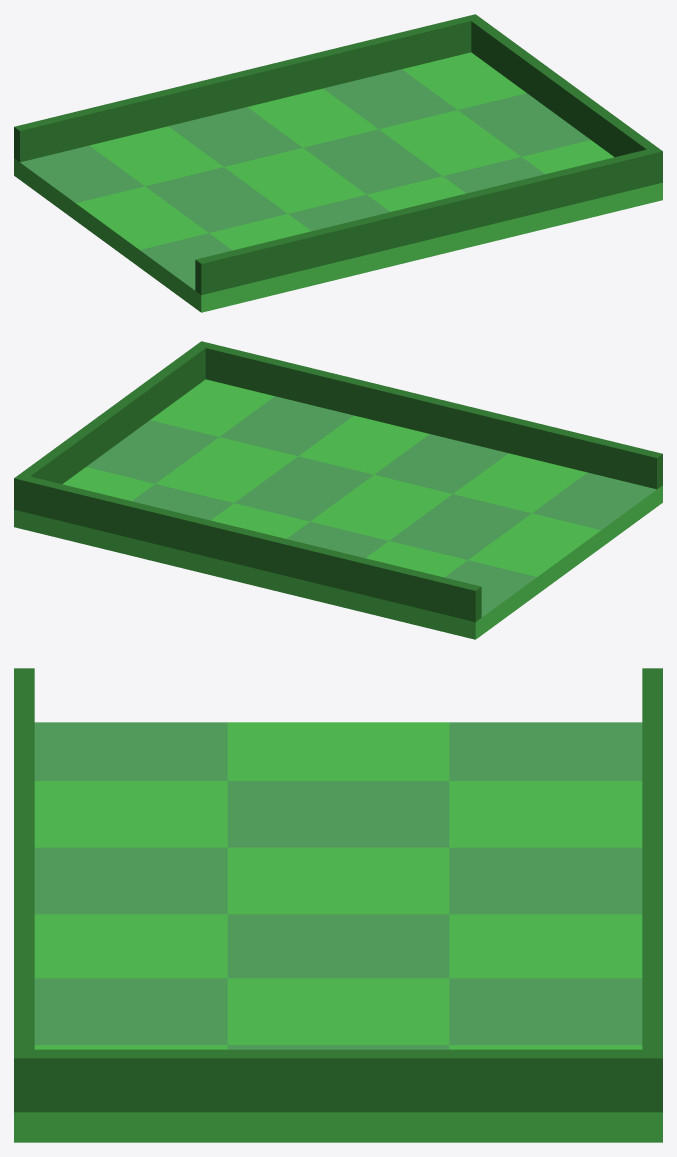
File: floor.fbx
3 renders of one model, top to bottom at view 1: azimuth 30°, elevation 25°; view 2: azimuth 150°, elevation 25°; view 3: azimuth 270°, elevation 25°, orthographic. The views are drawn at different scales.
Parts seen in each view (by area): view 1: pasted__pCube7; view 2: pasted__pCube7; view 3: pasted__pCube7.
Part boxes in pixels (left/top/right/bottom): pasted__pCube7: left=14, top=14, right=662, bottom=312; pasted__pCube7: left=14, top=341, right=662, bottom=639; pasted__pCube7: left=14, top=668, right=662, bottom=1142.
Bounding box in the file's own units: 22.4 × 2.26 × 15.75.
